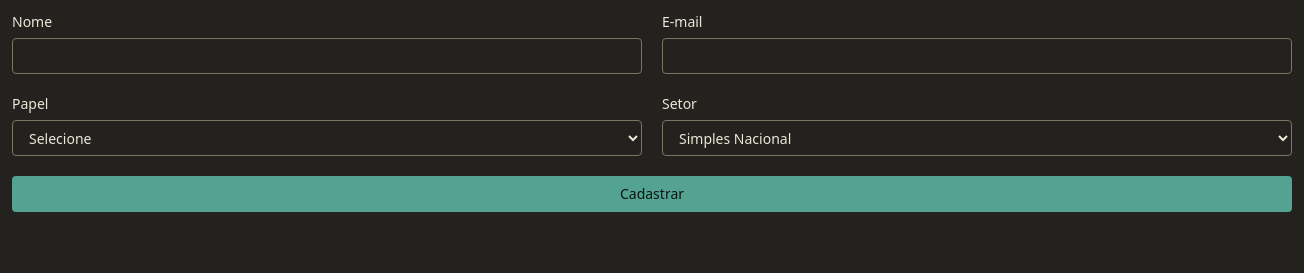
Scenario: CriarUsuarioContainer › Promise rejeitada limpa o estado pendente e mostra erro genérico
In the field labelled "Nome": (327, 56) [12,38,642,74], type "Jéssica Souza"
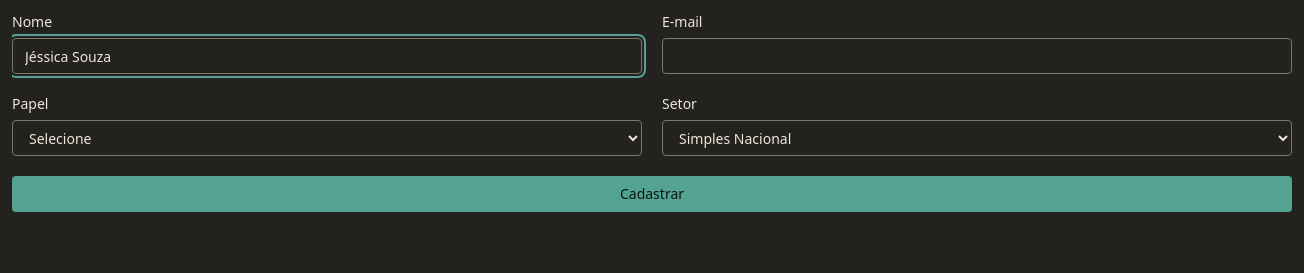
In the field labelled "E-mail": (977, 56) [662,38,1292,74], type "jessica@rigonicontabil.local"
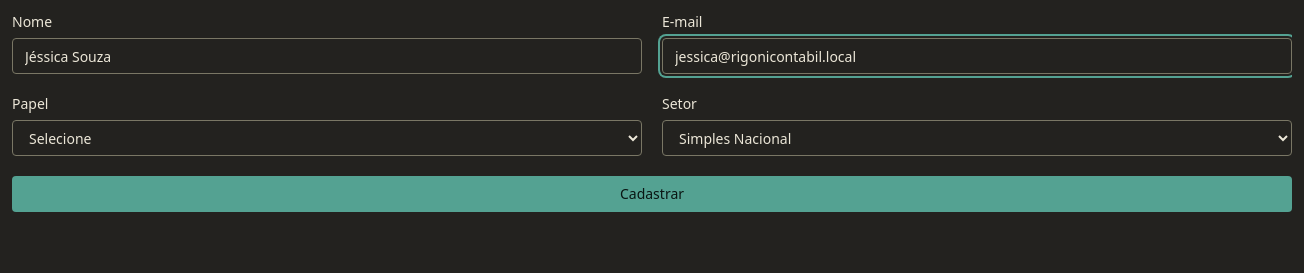
Select "Funcionário" in the dropdown labelled "Papel": (327, 138) [12,120,642,156]
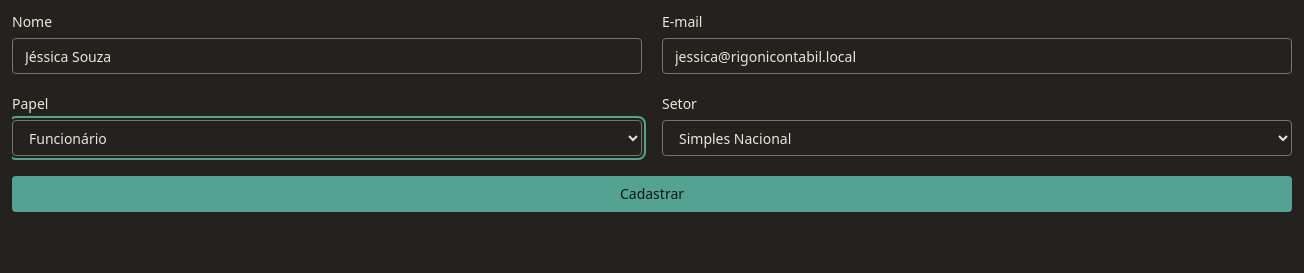
Select "Simples Nacional" in the dropdown labelled "Setor": (977, 138) [662,120,1292,156]
Click the button "Cadastrar": (652, 194) [12,176,1292,212]
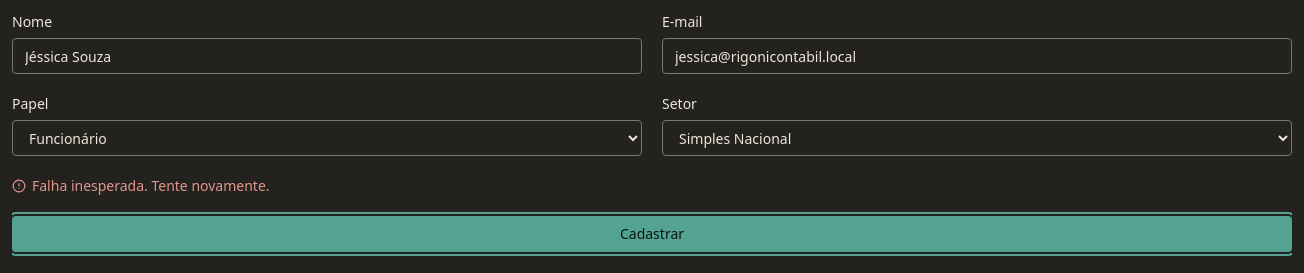
Expected: the button "Cadastrar" is enabled, [12,216,1292,252]
Expected: the text "Falha inesperada. Tente novamente." is shown, [12,176,270,195]
